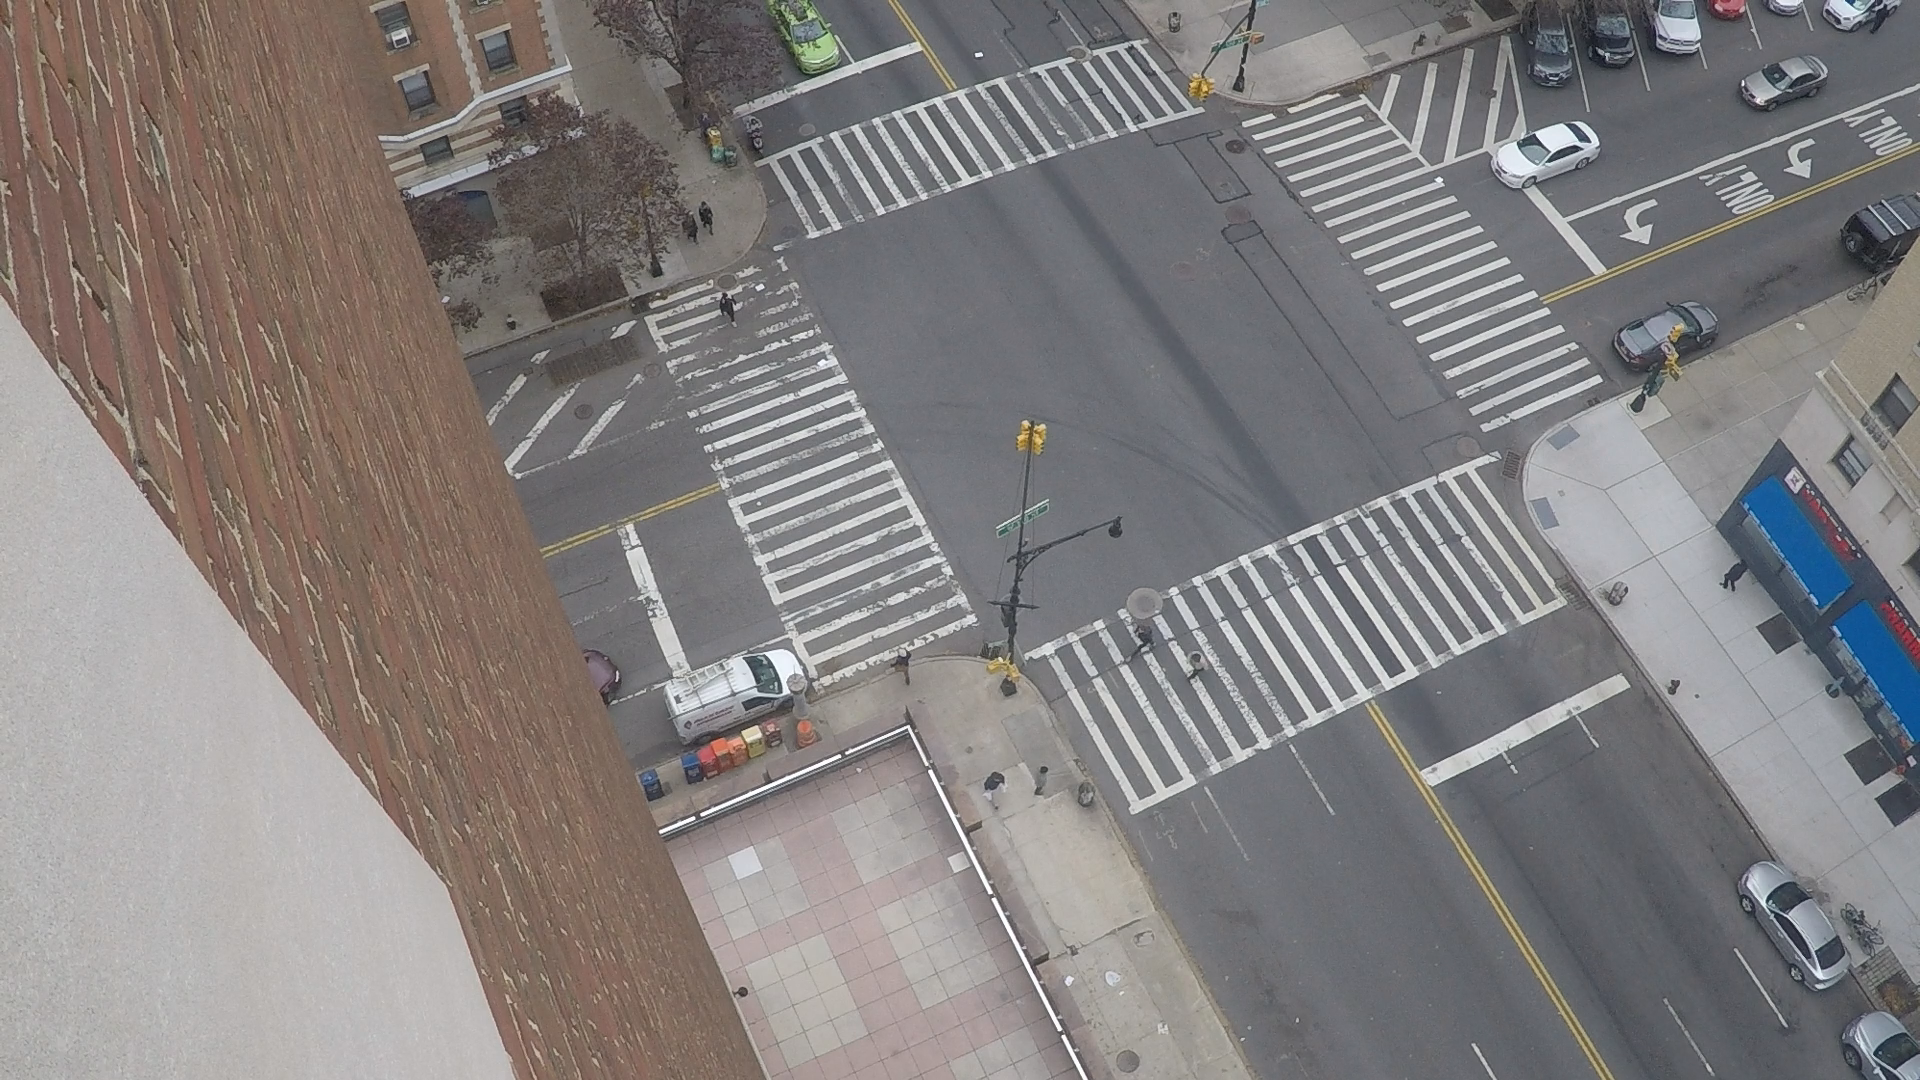Car: (812, 0, 839, 48), (795, 654, 799, 662), (1692, 300, 1701, 303), (1763, 0, 1764, 3)
Pedestrian: (903, 648, 909, 651), (757, 119, 762, 123), (1744, 562, 1747, 567), (1194, 651, 1202, 653), (1140, 625, 1146, 626), (725, 289, 728, 291), (995, 770, 999, 771), (1042, 766, 1046, 767)
